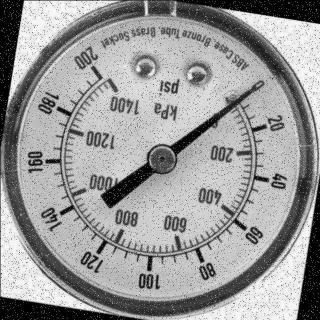gauge: (0, 0, 320, 320), (74, 44, 113, 88), (228, 73, 268, 113), (146, 144, 178, 176), (248, 79, 266, 95)
